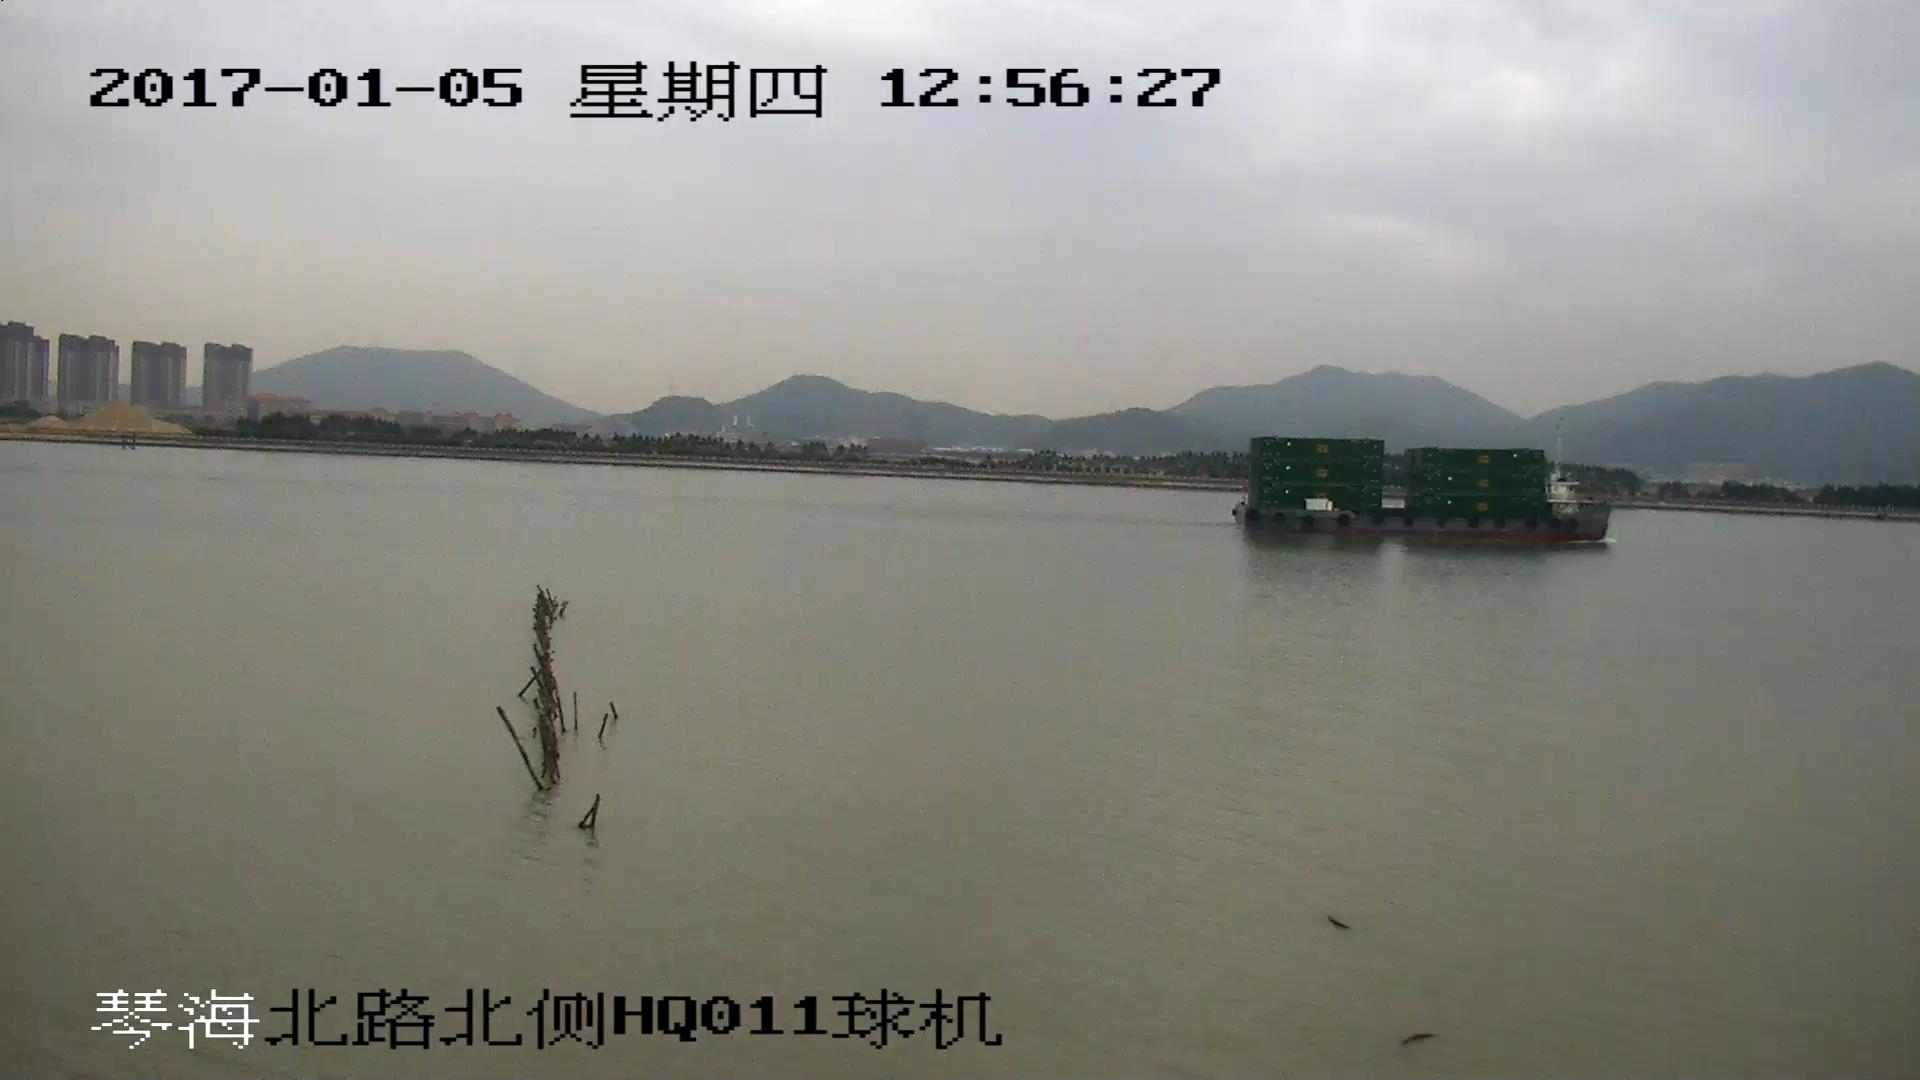container ship: (1237, 434, 1608, 547)
